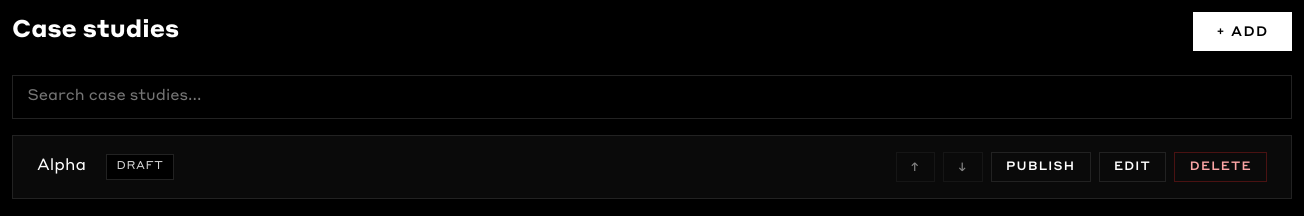
Test: CollectionTab editor affordances › disables Add, Edit and Delete while a mutation is in flight
Step 1. Click the button "Publish" → {"x": 1041, "y": 167}, box [990,152,1091,182]
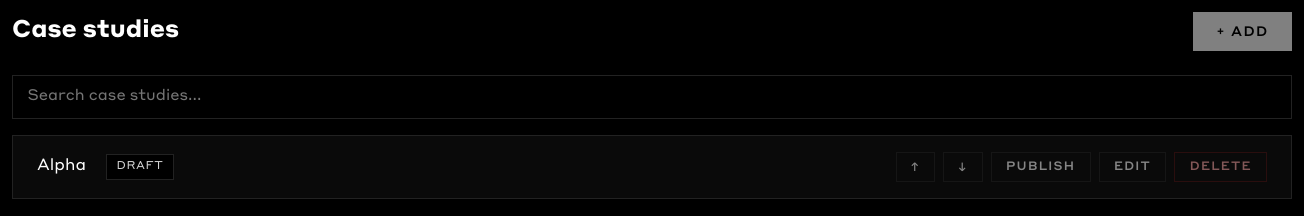
Expected: the button "+ Add" is disabled, [1193,12,1292,51]
Expected: the button "Edit" is disabled, [1099,152,1166,182]
Expected: the button "Delete" is disabled, [1174,152,1267,182]
